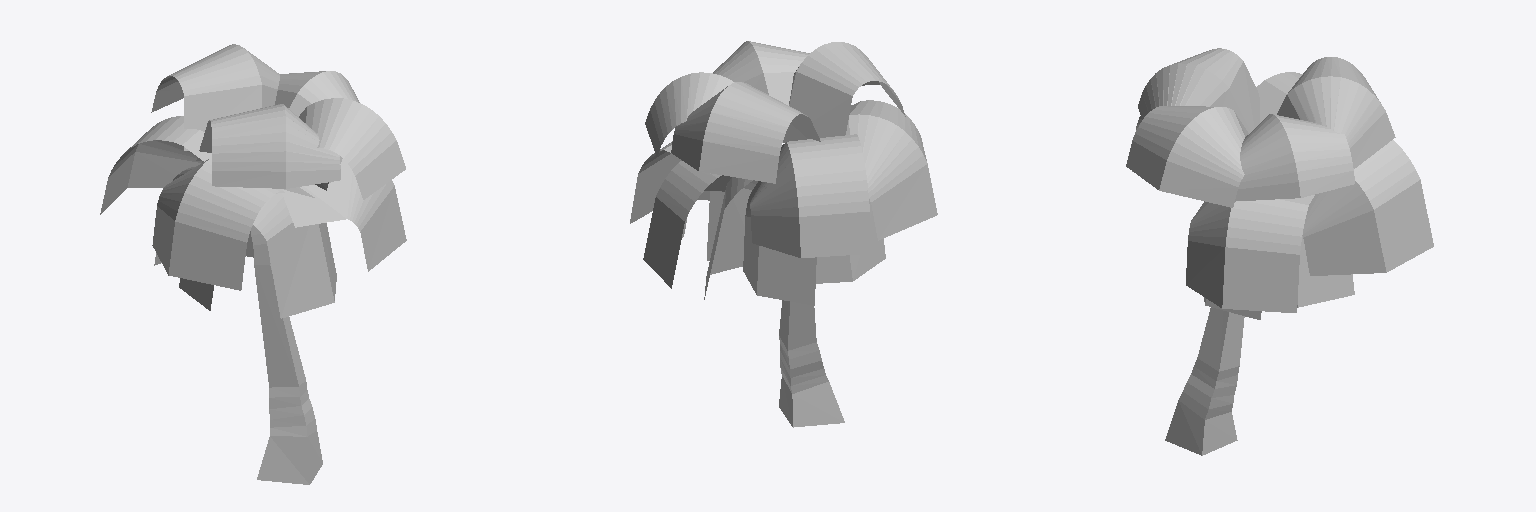
Rendered from CartoonPalmTree6.obj.
3 views of the same model, side by side, from view 1: azimuth 30°, elevation 25°; view 2: azimuth 150°, elevation 25°; view 3: azimuth 270°, elevation 25° (orthographic).
Parts seen in each view (by area): view 1: Cartoon Palm Tree 6; view 2: Cartoon Palm Tree 6; view 3: Cartoon Palm Tree 6.
Boxes of the visible parts, box(x1,y1,x2,y2) form: Cartoon Palm Tree 6: box(100, 44, 406, 484); Cartoon Palm Tree 6: box(630, 41, 937, 427); Cartoon Palm Tree 6: box(1126, 48, 1433, 455).
Size of the model in its own units: 14.75 by 20.19 by 15.15.